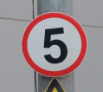speed_limit_5: (21, 12, 87, 76)
